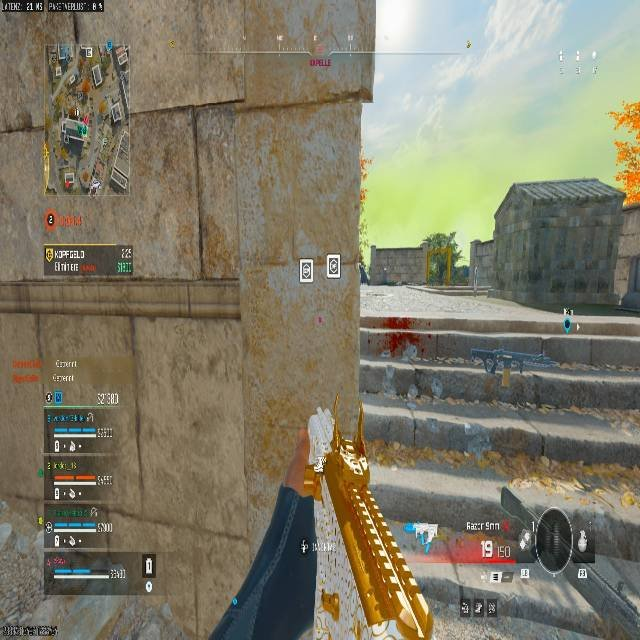player: (359, 259, 369, 285)
